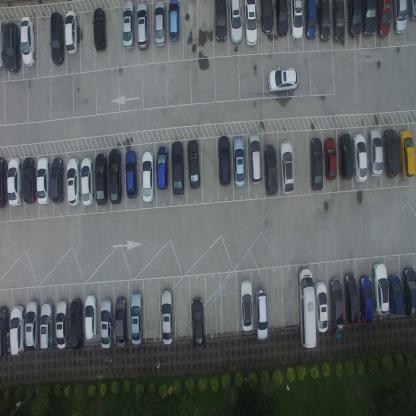car: (298, 268, 315, 351), (372, 264, 390, 316), (398, 130, 416, 179), (357, 274, 374, 325), (4, 22, 21, 73), (160, 288, 175, 345), (383, 128, 400, 178), (267, 67, 298, 94), (344, 272, 360, 324), (24, 298, 40, 350), (10, 304, 26, 356), (49, 12, 65, 64), (263, 142, 278, 197), (329, 278, 344, 333), (171, 139, 185, 197), (94, 152, 109, 206), (39, 301, 55, 351), (352, 134, 368, 184), (190, 297, 205, 350), (254, 288, 269, 341), (20, 15, 35, 68), (108, 148, 122, 204), (69, 298, 84, 350), (280, 140, 294, 195), (130, 291, 144, 345), (309, 137, 323, 191), (21, 157, 37, 204), (92, 6, 108, 53), (239, 282, 254, 332), (36, 156, 51, 206), (368, 127, 383, 177), (248, 132, 262, 185), (232, 136, 246, 189), (124, 150, 139, 199), (217, 136, 231, 188), (314, 282, 328, 334), (56, 298, 70, 350), (49, 156, 64, 204), (401, 265, 415, 316), (80, 156, 94, 207), (141, 150, 154, 204), (186, 139, 200, 189), (114, 297, 128, 347), (66, 156, 80, 206), (7, 157, 21, 206), (339, 132, 353, 181), (244, 0, 258, 49), (387, 273, 404, 313), (100, 297, 113, 349), (153, 0, 167, 48), (84, 293, 98, 340), (122, 0, 135, 50), (228, 0, 243, 43), (64, 10, 78, 56), (136, 1, 149, 50), (324, 137, 338, 181), (376, 0, 391, 40), (361, 0, 376, 40), (156, 145, 169, 190), (289, 0, 303, 41), (214, 0, 227, 44), (332, 0, 345, 43), (347, 0, 362, 37), (304, 0, 317, 42), (0, 304, 10, 358), (318, 0, 330, 44), (275, 0, 289, 37), (168, 0, 180, 42), (392, 0, 406, 34), (260, 0, 274, 34), (0, 156, 7, 209), (406, 0, 416, 22), (0, 18, 4, 67)
